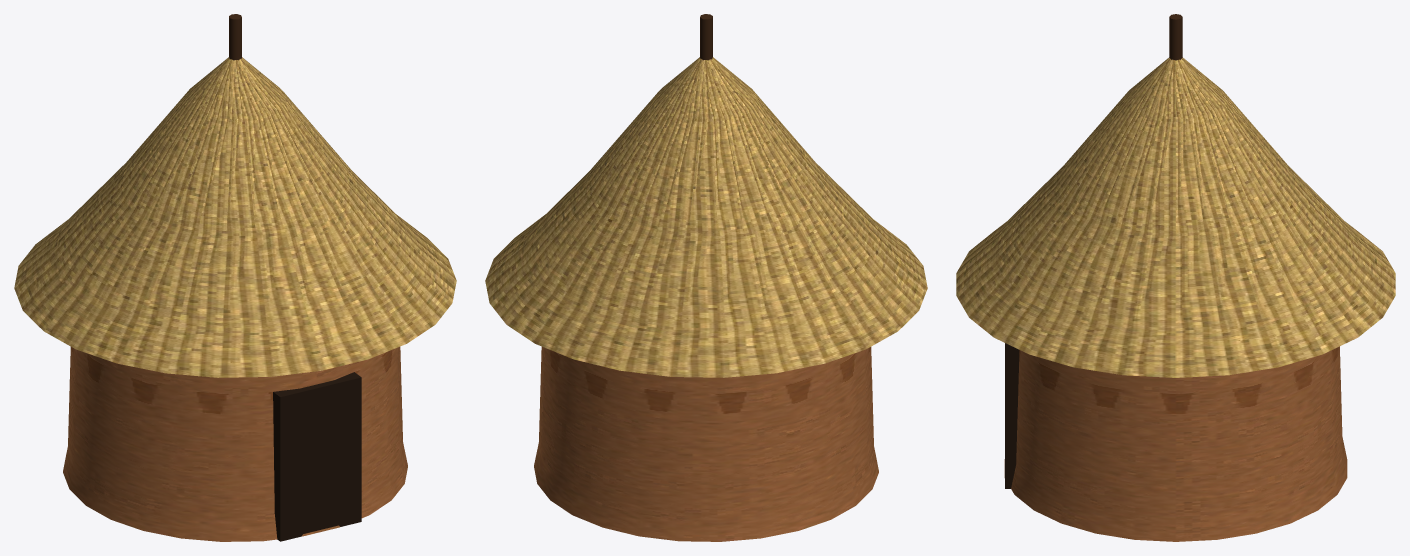
The model's file is case-ronde.glb.
The picture shows the model from 3 angles, left to right: view 1: azimuth 30°, elevation 25°; view 2: azimuth 150°, elevation 25°; view 3: azimuth 270°, elevation 25°; orthographic projection.
Visible parts, largest first — view 1: case-ronde; view 2: case-ronde; view 3: case-ronde.
Part boxes in pixels (x1,y1,x2,y2): case-ronde: (14, 14, 456, 541); case-ronde: (485, 14, 927, 541); case-ronde: (956, 14, 1395, 541).
Bounding box in the file's own units: 3.3 × 3.72 × 3.28.
Materials: 4 (2 with a texture image).
